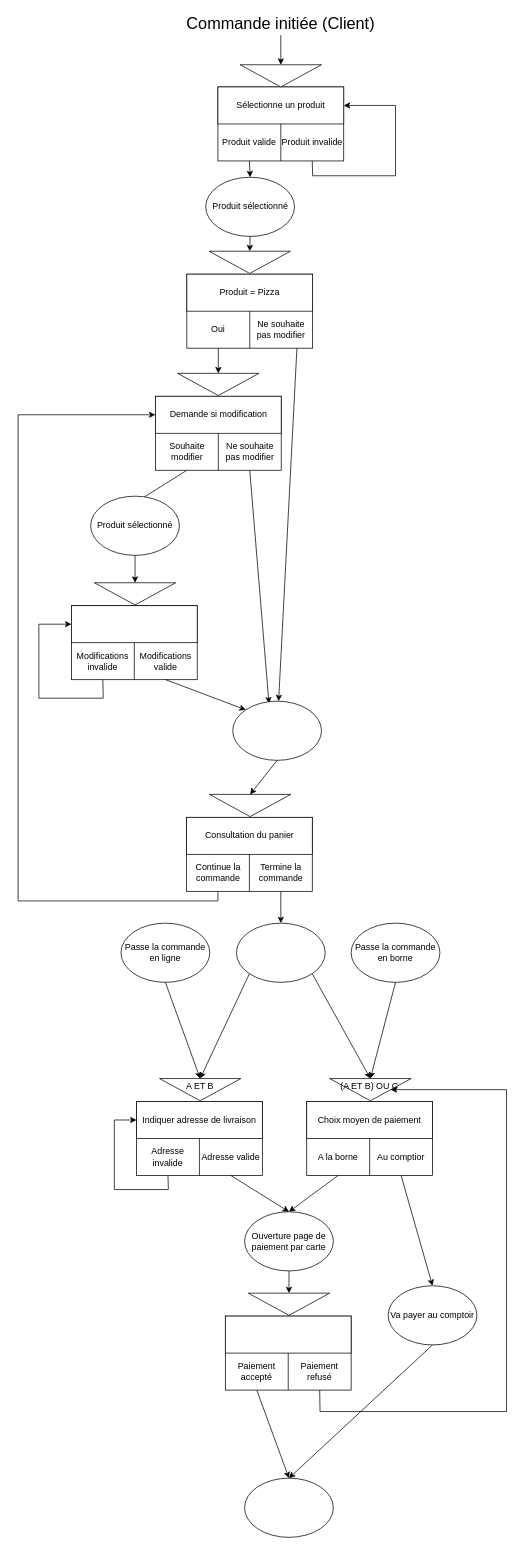
This 525x1550 diagram has some shape labels left out. Each missing label, with the centre of its shape:
"Ajout au panier" goes at point 277,730.
"Commande terminée et transférée en cuisine" goes at point 288,1507.
"Modifications de la pizza" goes at point 135,593.
"Ouverture page de choix paiement" goes at point 280,952.
"Vérification paiement" goes at point 289,1303.
